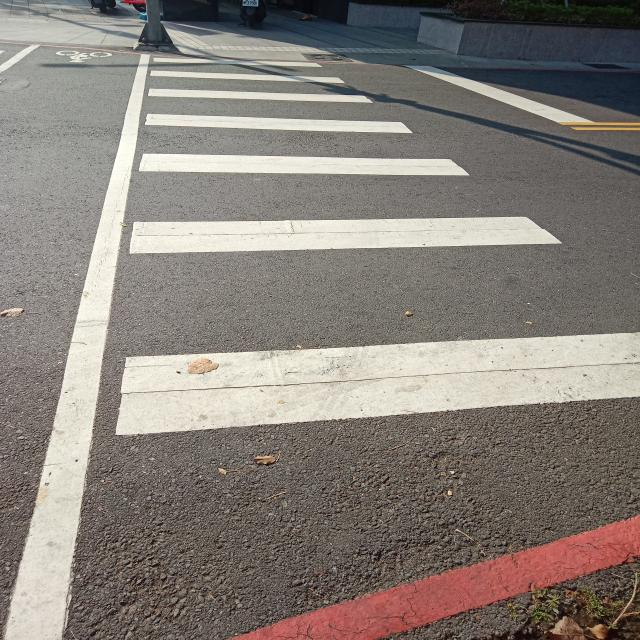zebra crossing: (116, 56, 640, 425)
